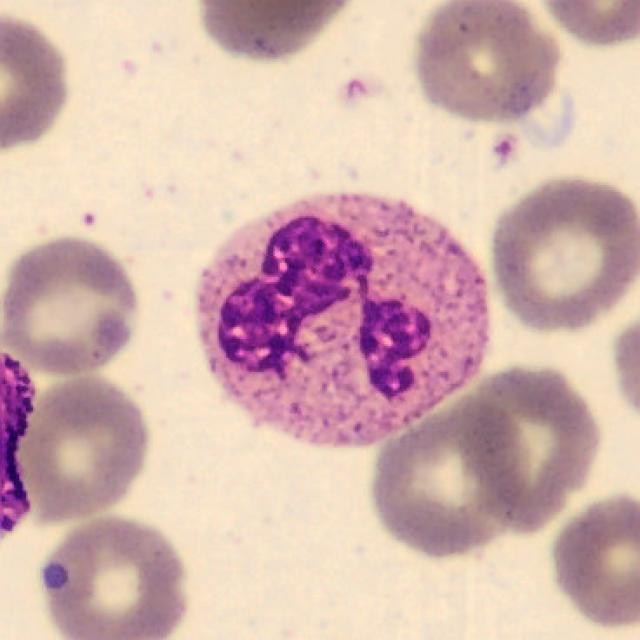Neutrofilo segmentado: (197, 190, 492, 450)
